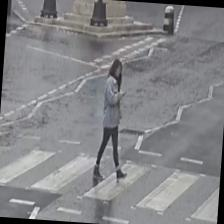person: (92, 57, 134, 182)
